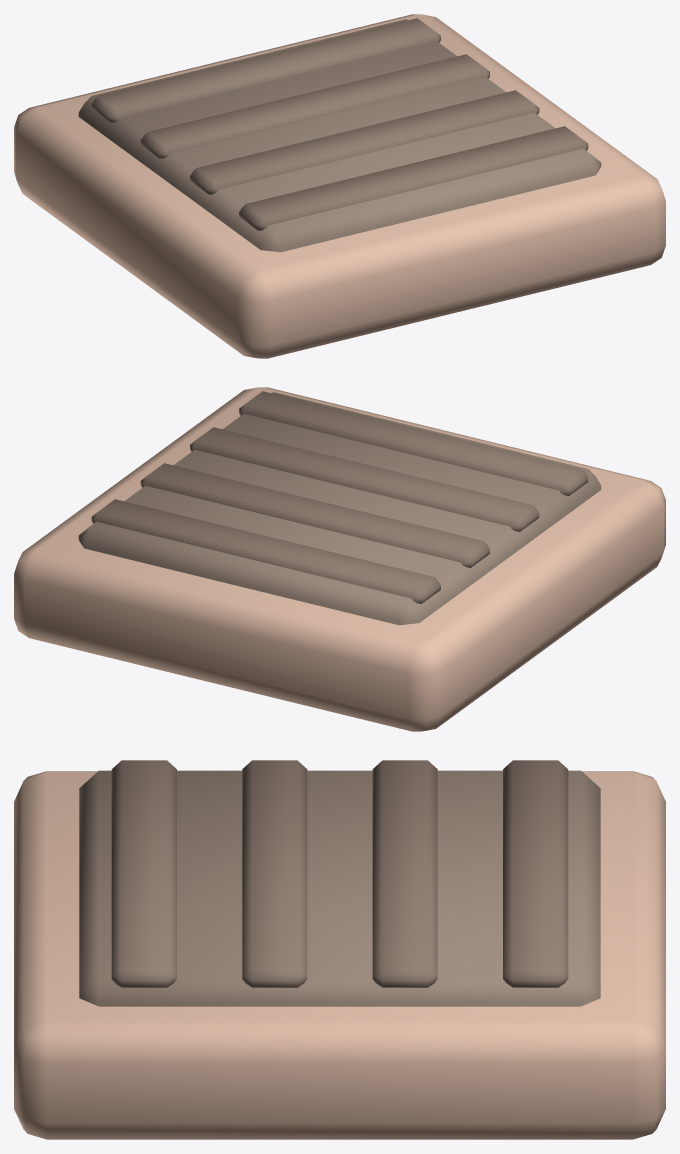
File: plot.glb
3 views of the same model, one above another, from view 1: azimuth 30°, elevation 25°; view 2: azimuth 150°, elevation 25°; view 3: azimuth 270°, elevation 25° (orthographic). The views are drawn at different scales.
Parts seen in each view (by area): view 1: plot; view 2: plot; view 3: plot.
Boxes of the visible parts, x1,y1,x2,y2 form: plot: (14,14,665,358); plot: (14,387,665,731); plot: (14,760,665,1139).
Bounding box in the file's own units: 1 × 0.255 × 1.
